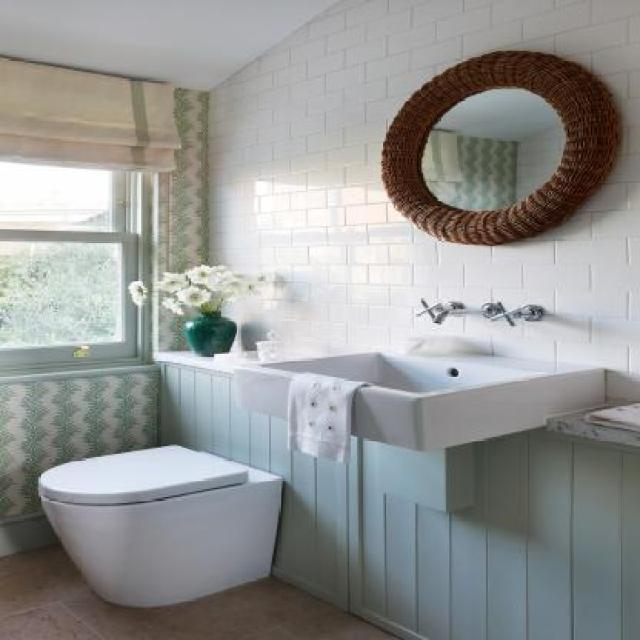floor: (0, 547, 409, 640)
